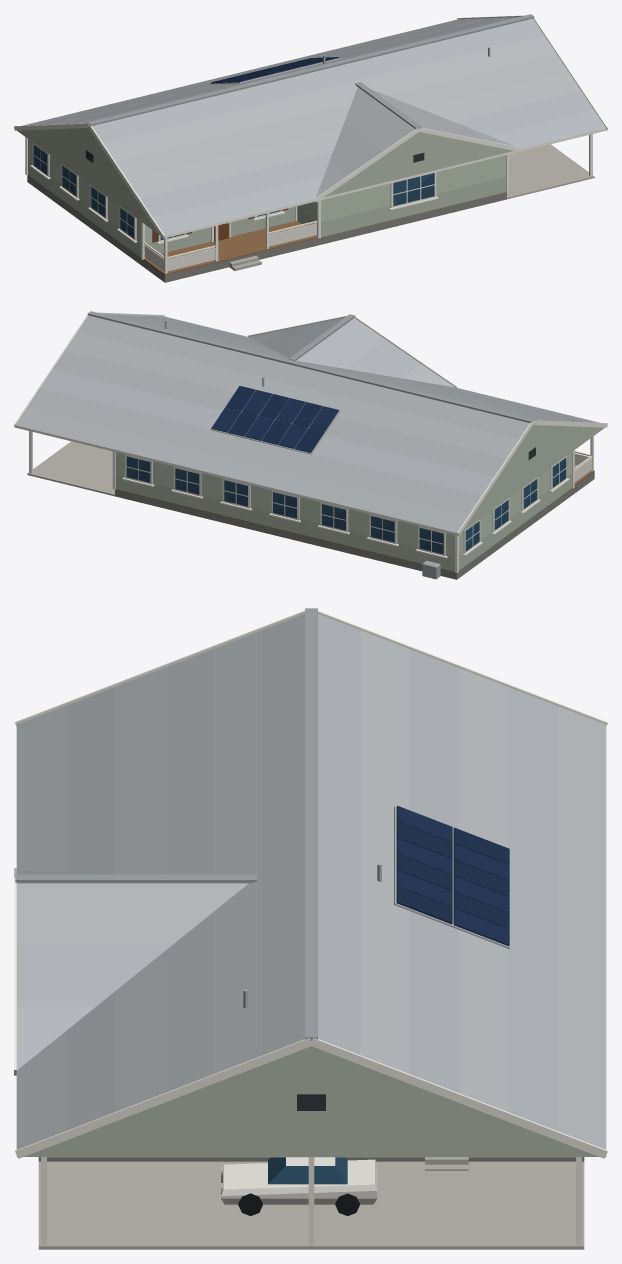
Rendered from house_27x15.glb.
3 views of the same model, one above another, from view 1: azimuth 30°, elevation 25°; view 2: azimuth 150°, elevation 25°; view 3: azimuth 270°, elevation 25° (orthographic). The views are drawn at different scales.
Parts seen in each view (by area): view 1: house; view 2: house; view 3: house.
Part boxes in pixels (<box>): house: <box>14,14,607,282</box>; house: <box>14,311,607,579</box>; house: <box>14,608,607,1249</box>.
Bounding box in the file's own units: 27.93 × 6.64 × 16.32.
